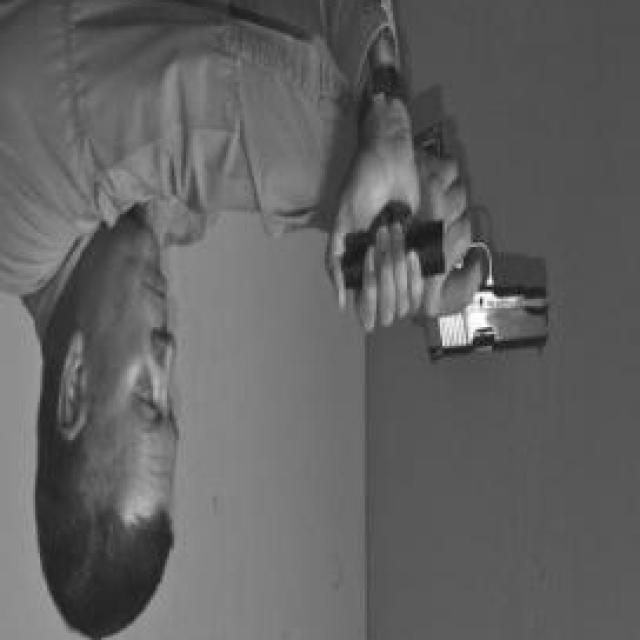pistol: (393, 112, 549, 381)
